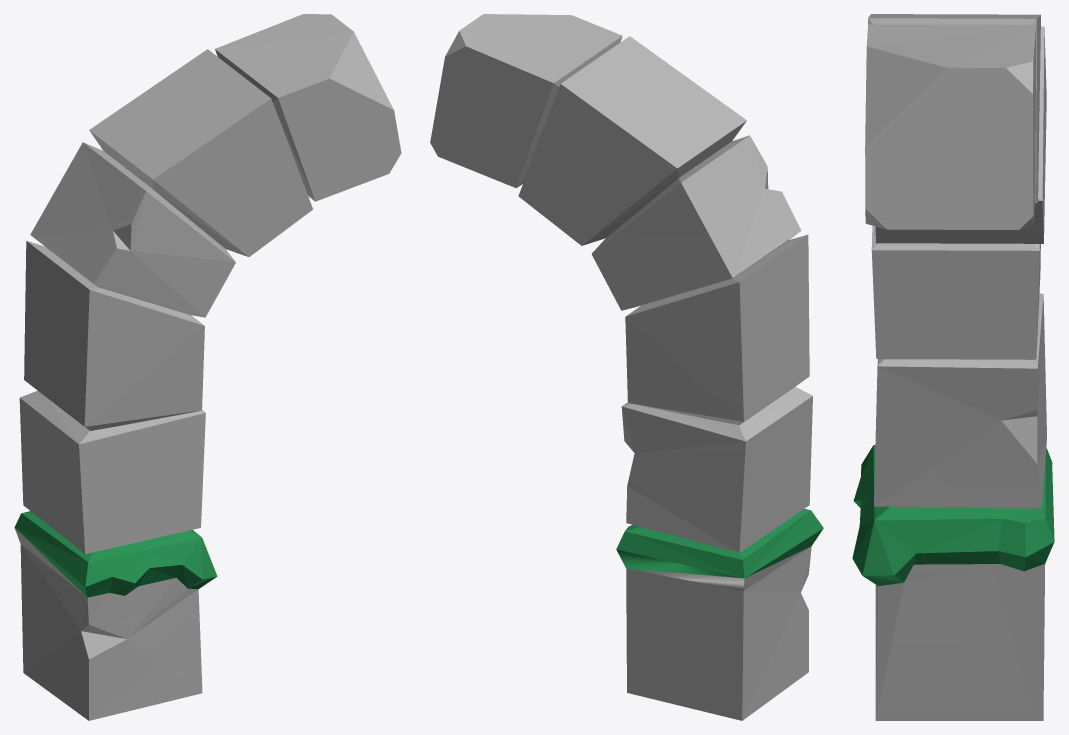
The model's file is Arch1.fbx.
3 views of the same model, side by side, from view 1: azimuth 30°, elevation 25°; view 2: azimuth 150°, elevation 25°; view 3: azimuth 270°, elevation 25° (orthographic). The views are drawn at different scales.
Visible parts, largest first — view 1: Arch1; view 2: Arch1; view 3: Arch1.
Part boxes in pixels (<box>): Arch1: <box>14,14,401,720</box>; Arch1: <box>430,14,823,720</box>; Arch1: <box>852,14,1054,720</box>.
Size of the model in its own units: 216 by 91.78 by 383.
